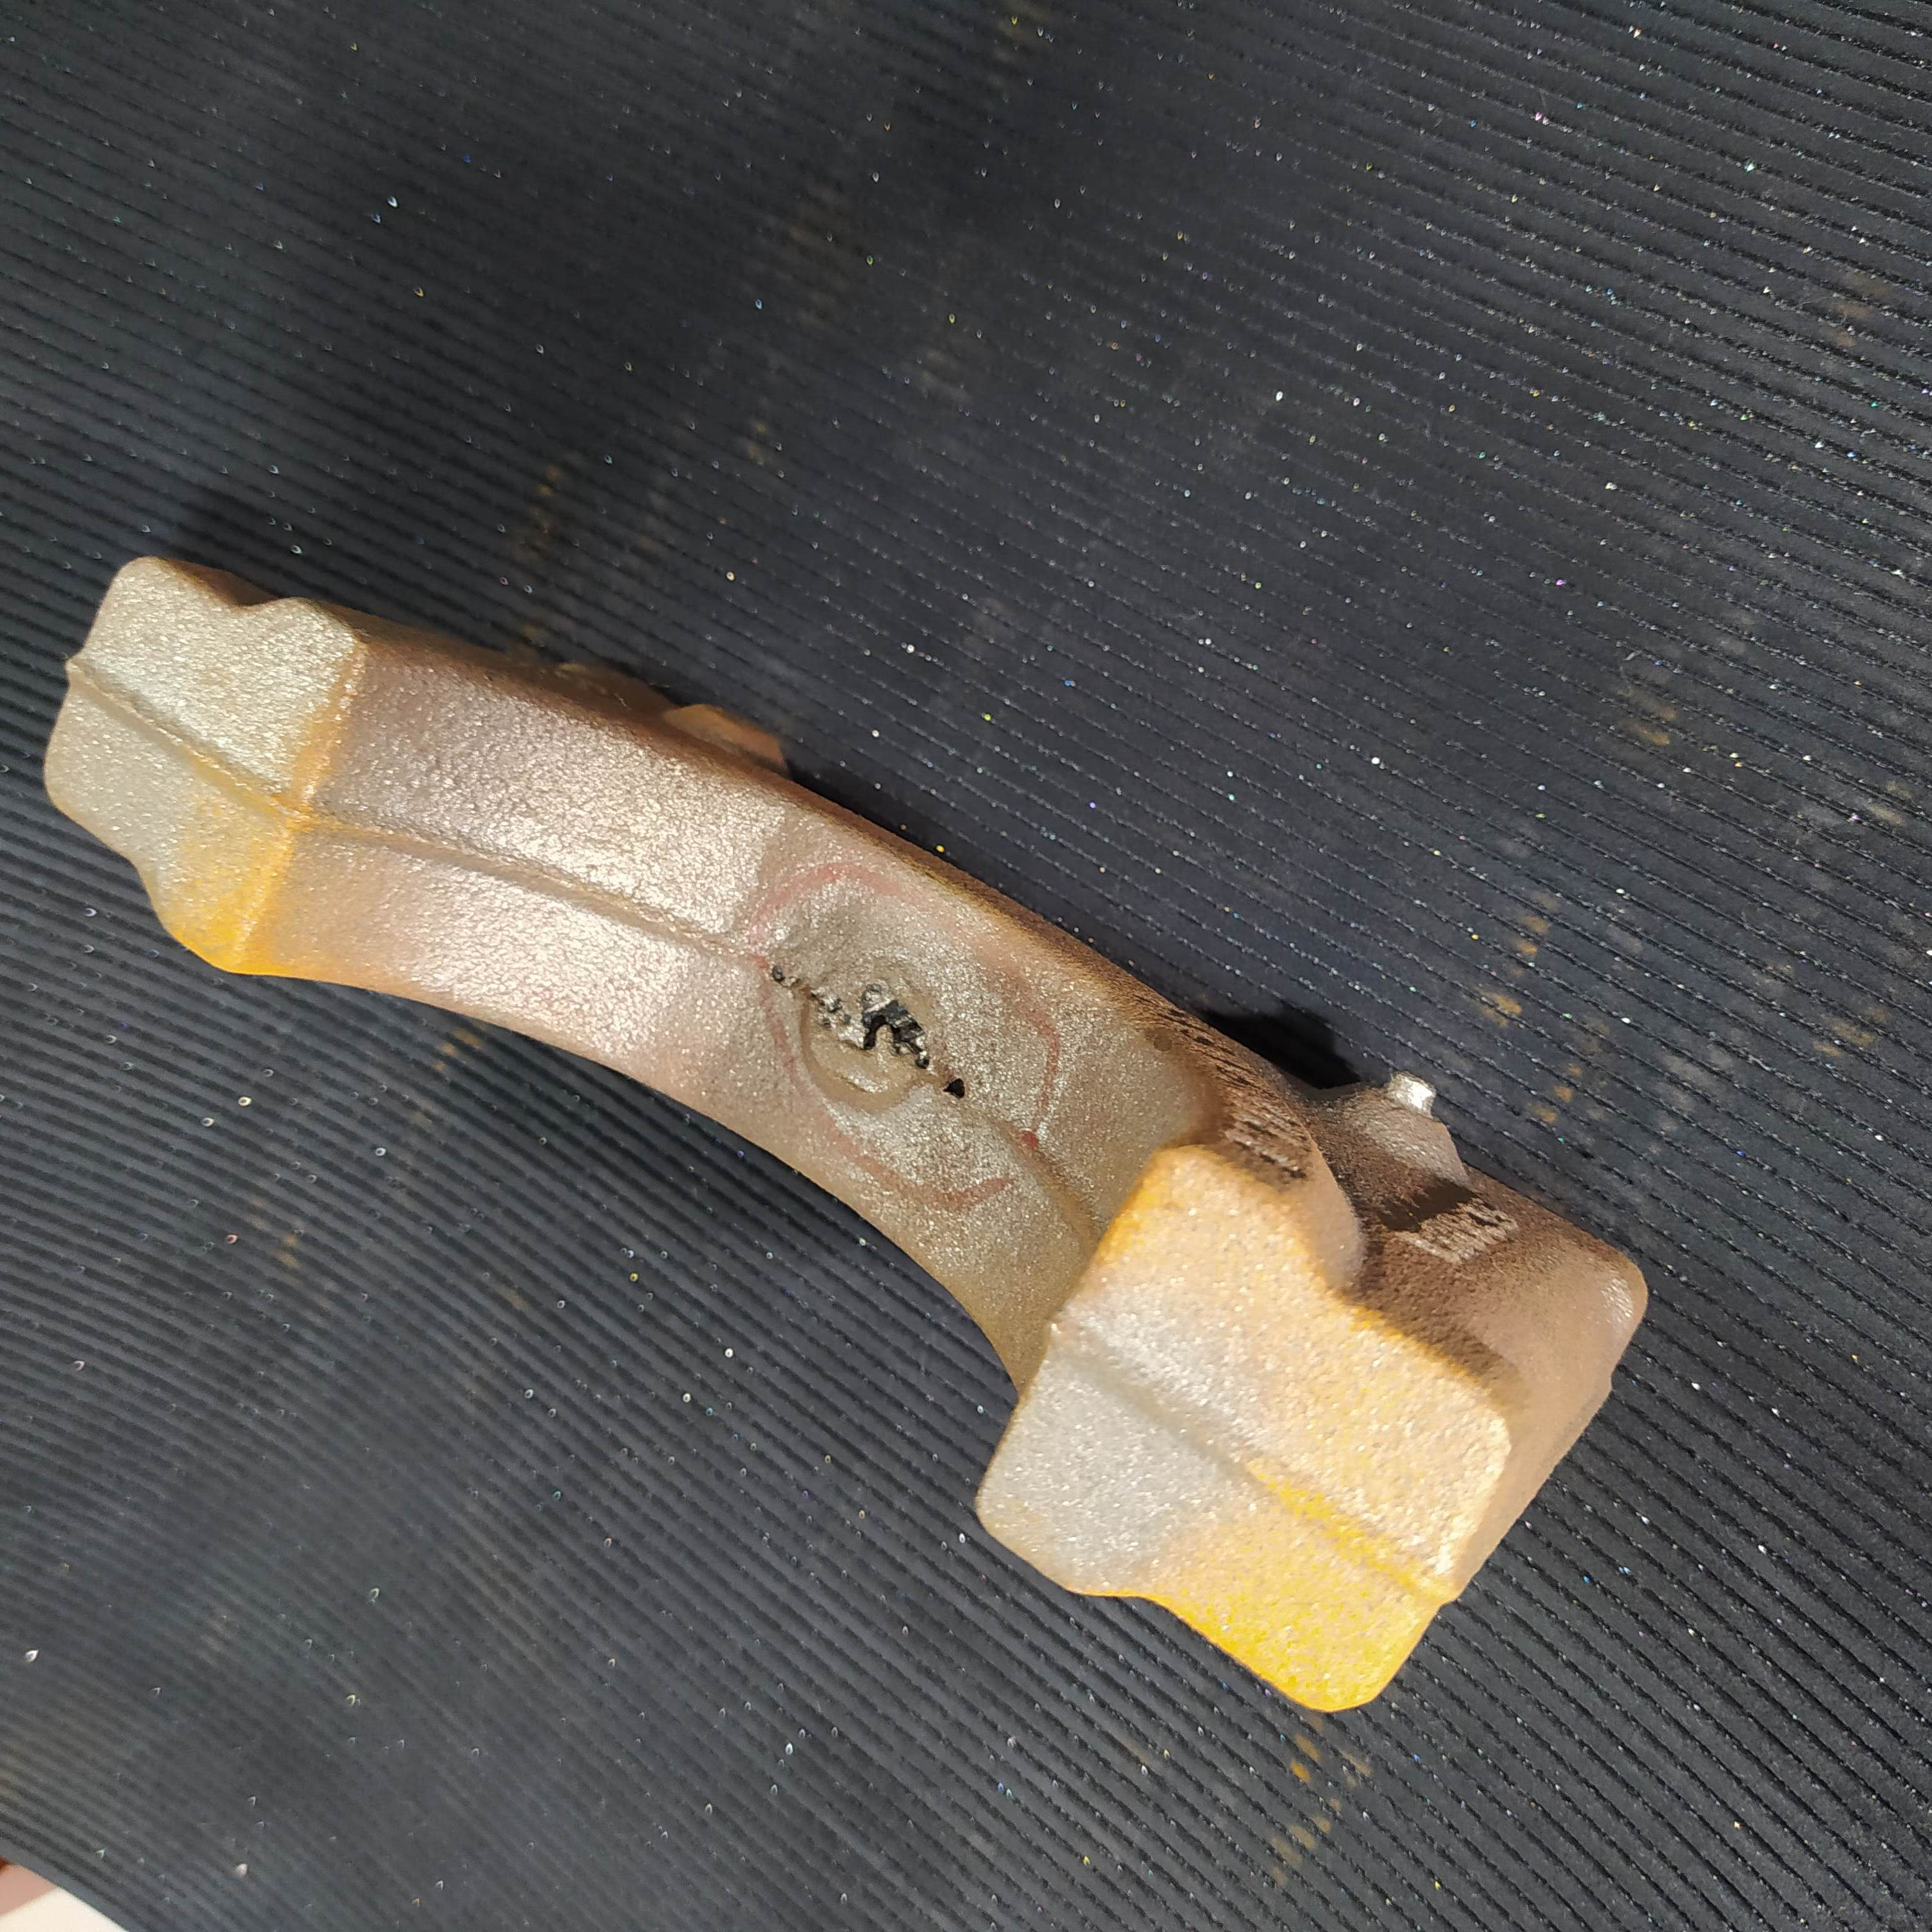buraco: (846, 980, 939, 1083), (945, 1069, 970, 1106), (770, 959, 796, 993)
